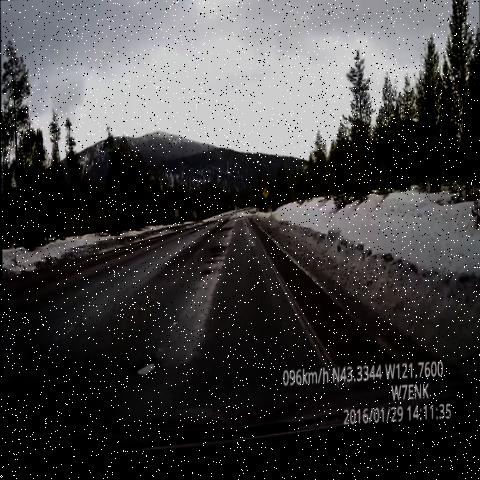pothole: (123, 344, 169, 392), (201, 244, 230, 268), (197, 267, 214, 287), (217, 227, 234, 242)
